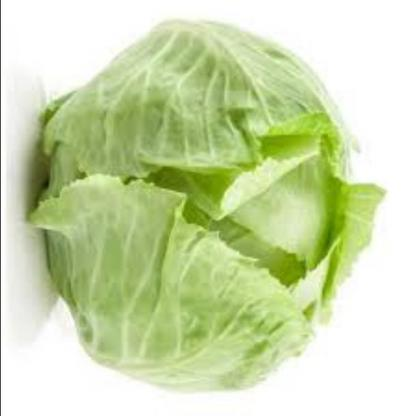cabbage: (20, 12, 388, 407)
